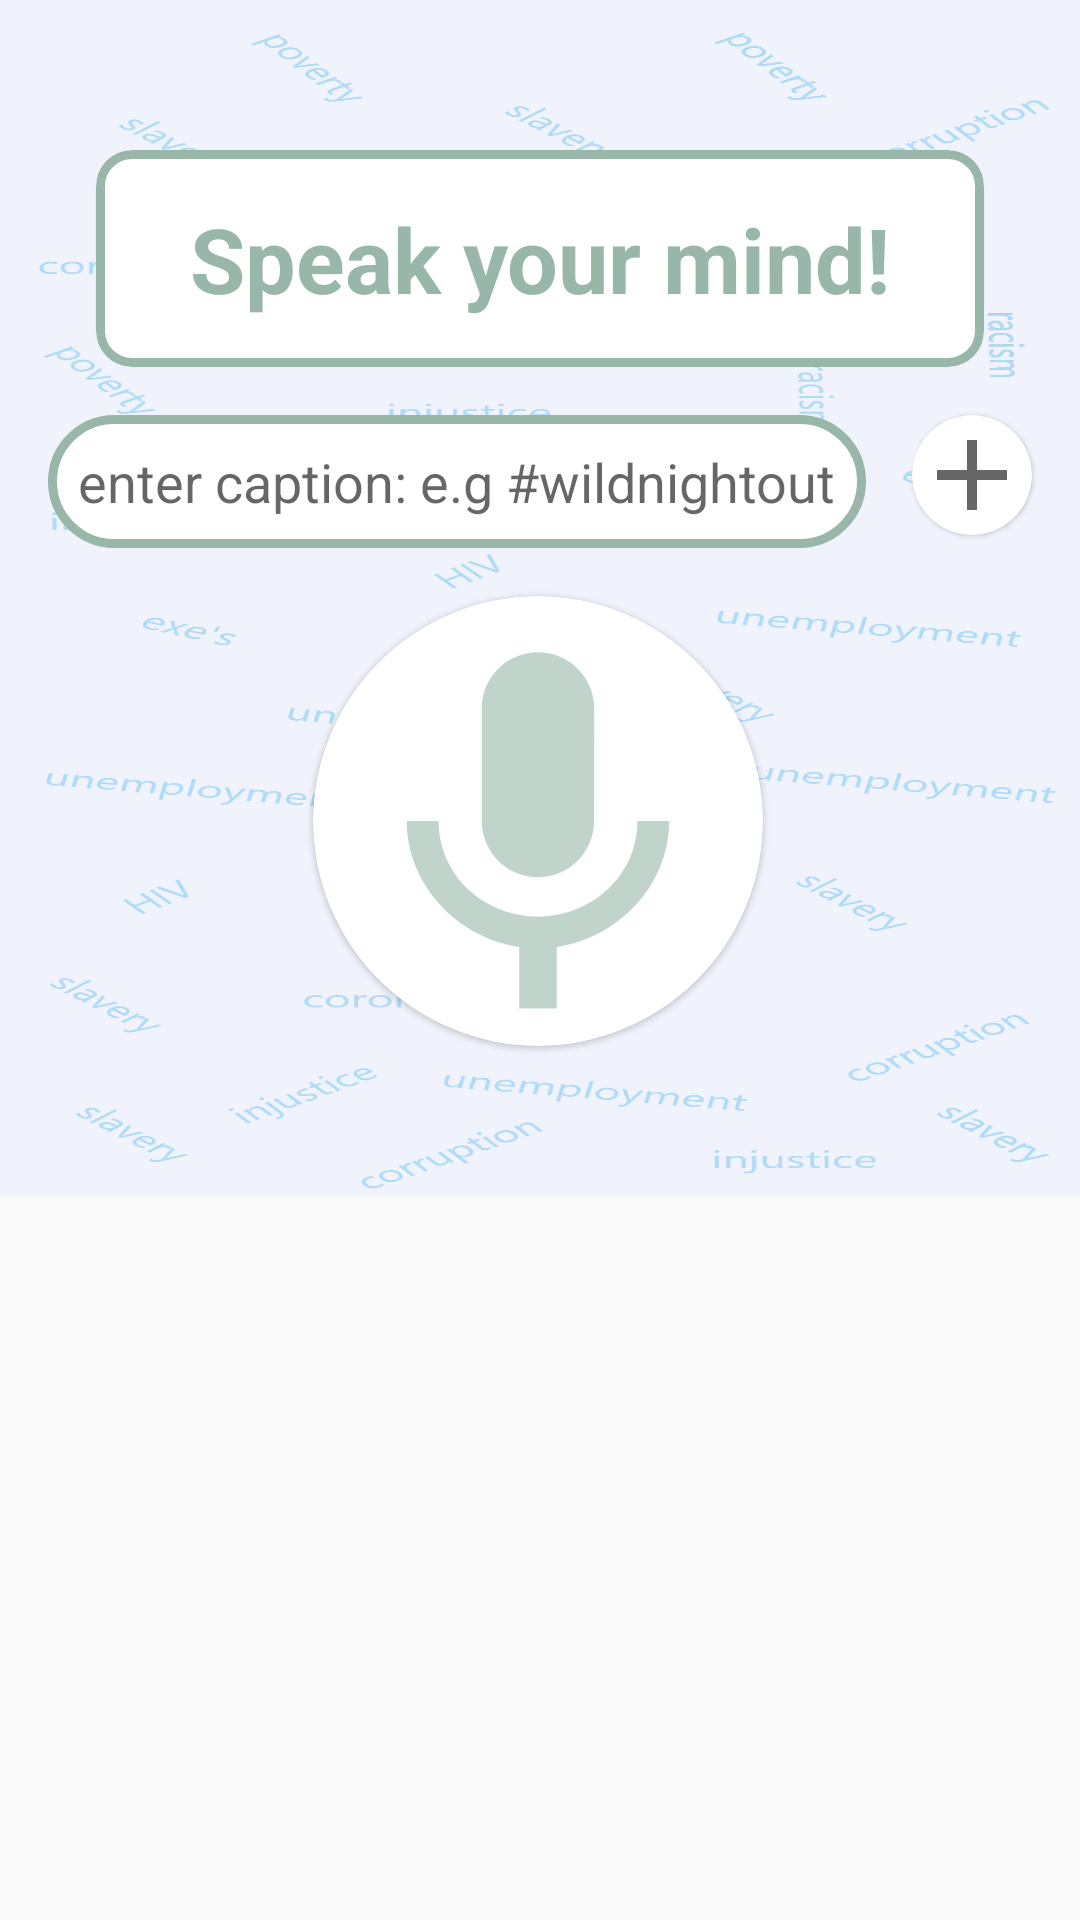

Screen size 1080px×1920px. Icon name, then its center in pixels as [x,y]:
add: [972,475]
